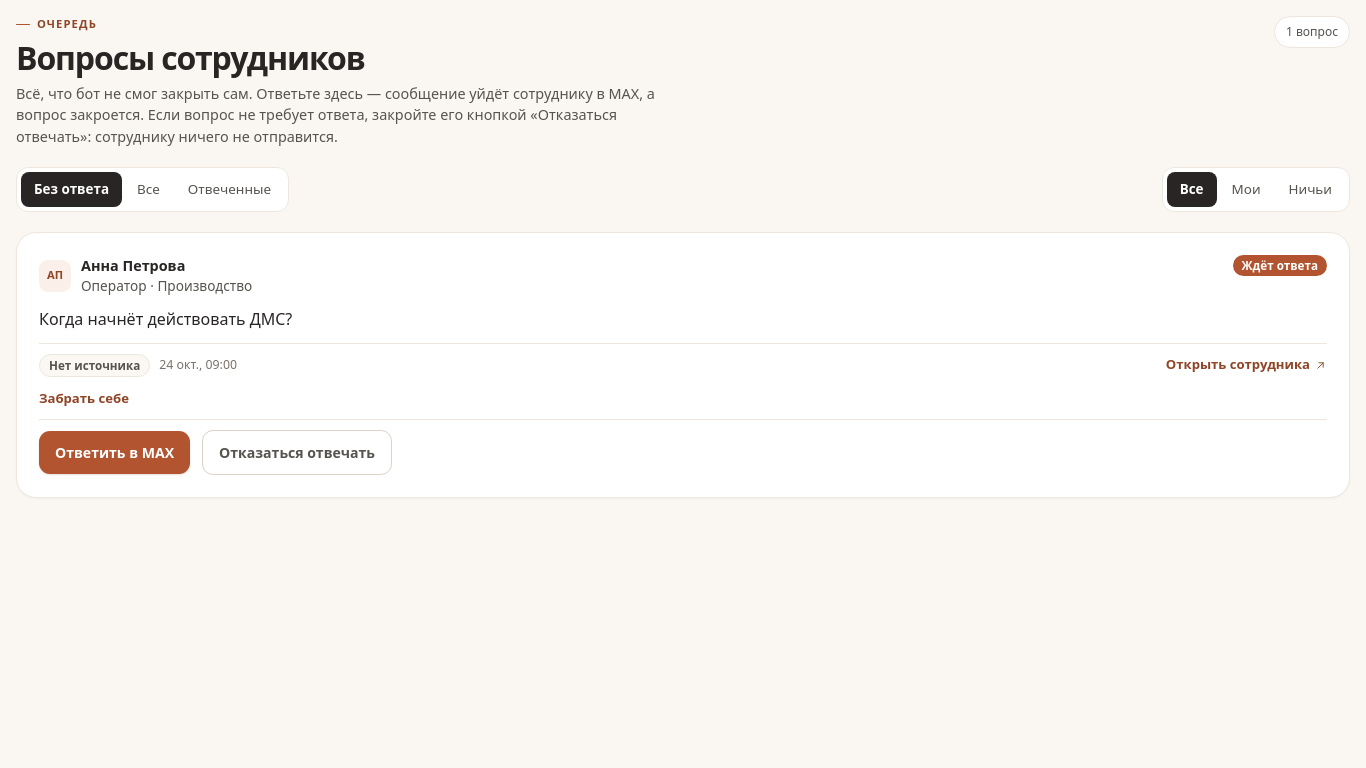
Test: QuestionsPage › does not submit an empty reply
The image size is (1366, 768).
Click the button "Ответить в MAX" at (115, 452), box [39,431,190,474]
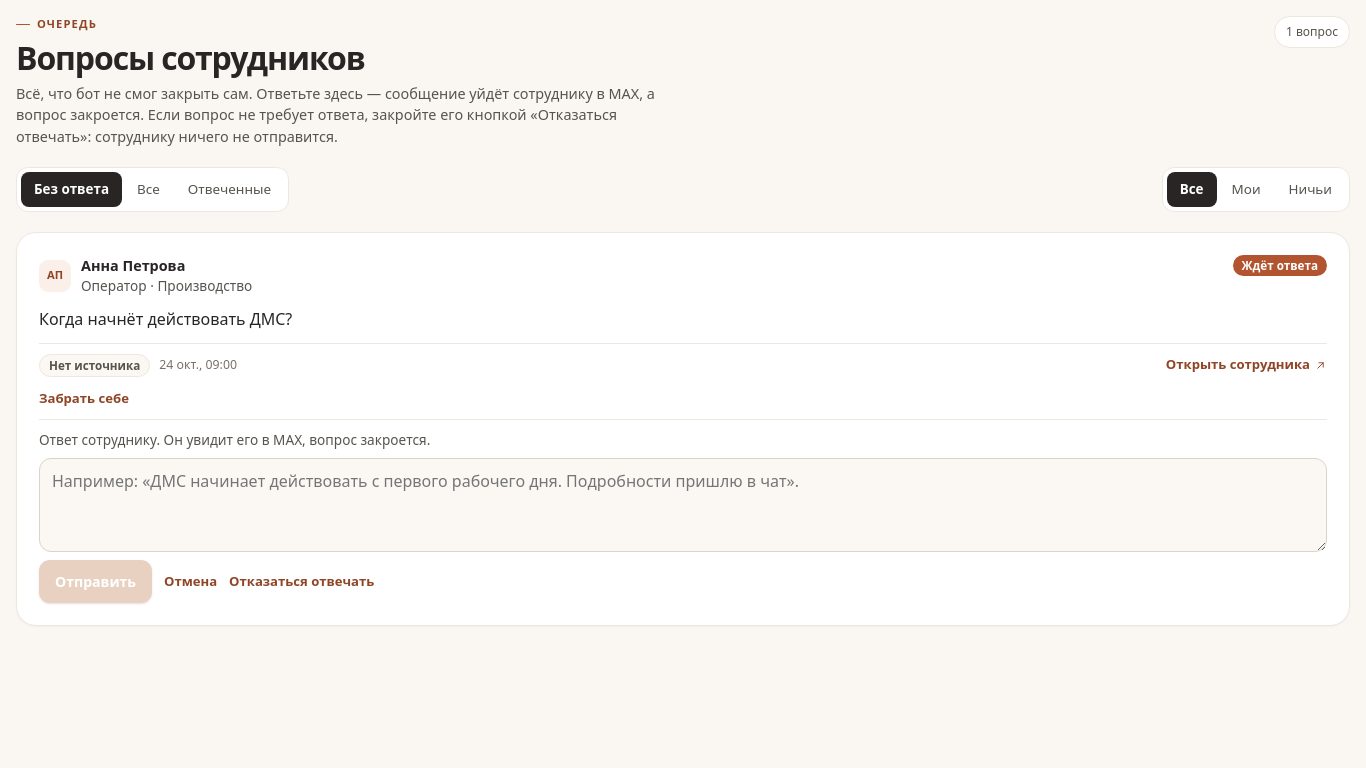
Result: the button "Отправить" is disabled at [39,560,152,603]
